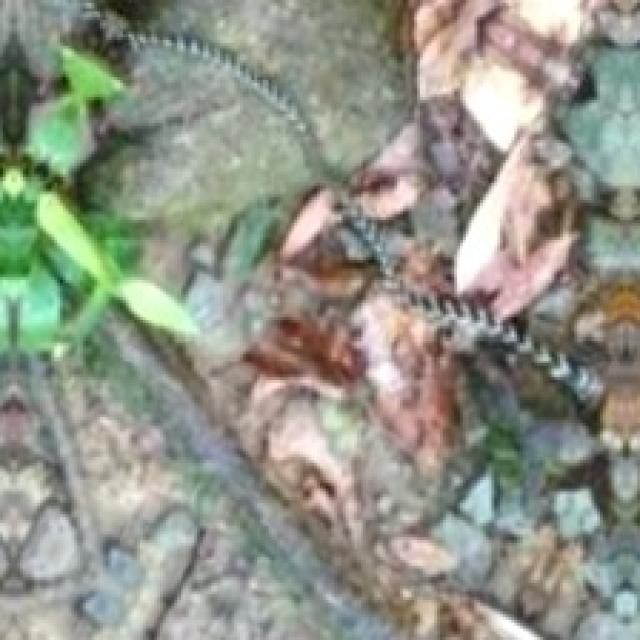king cobra: (130, 33, 341, 189), (420, 300, 605, 399), (335, 168, 404, 290)
